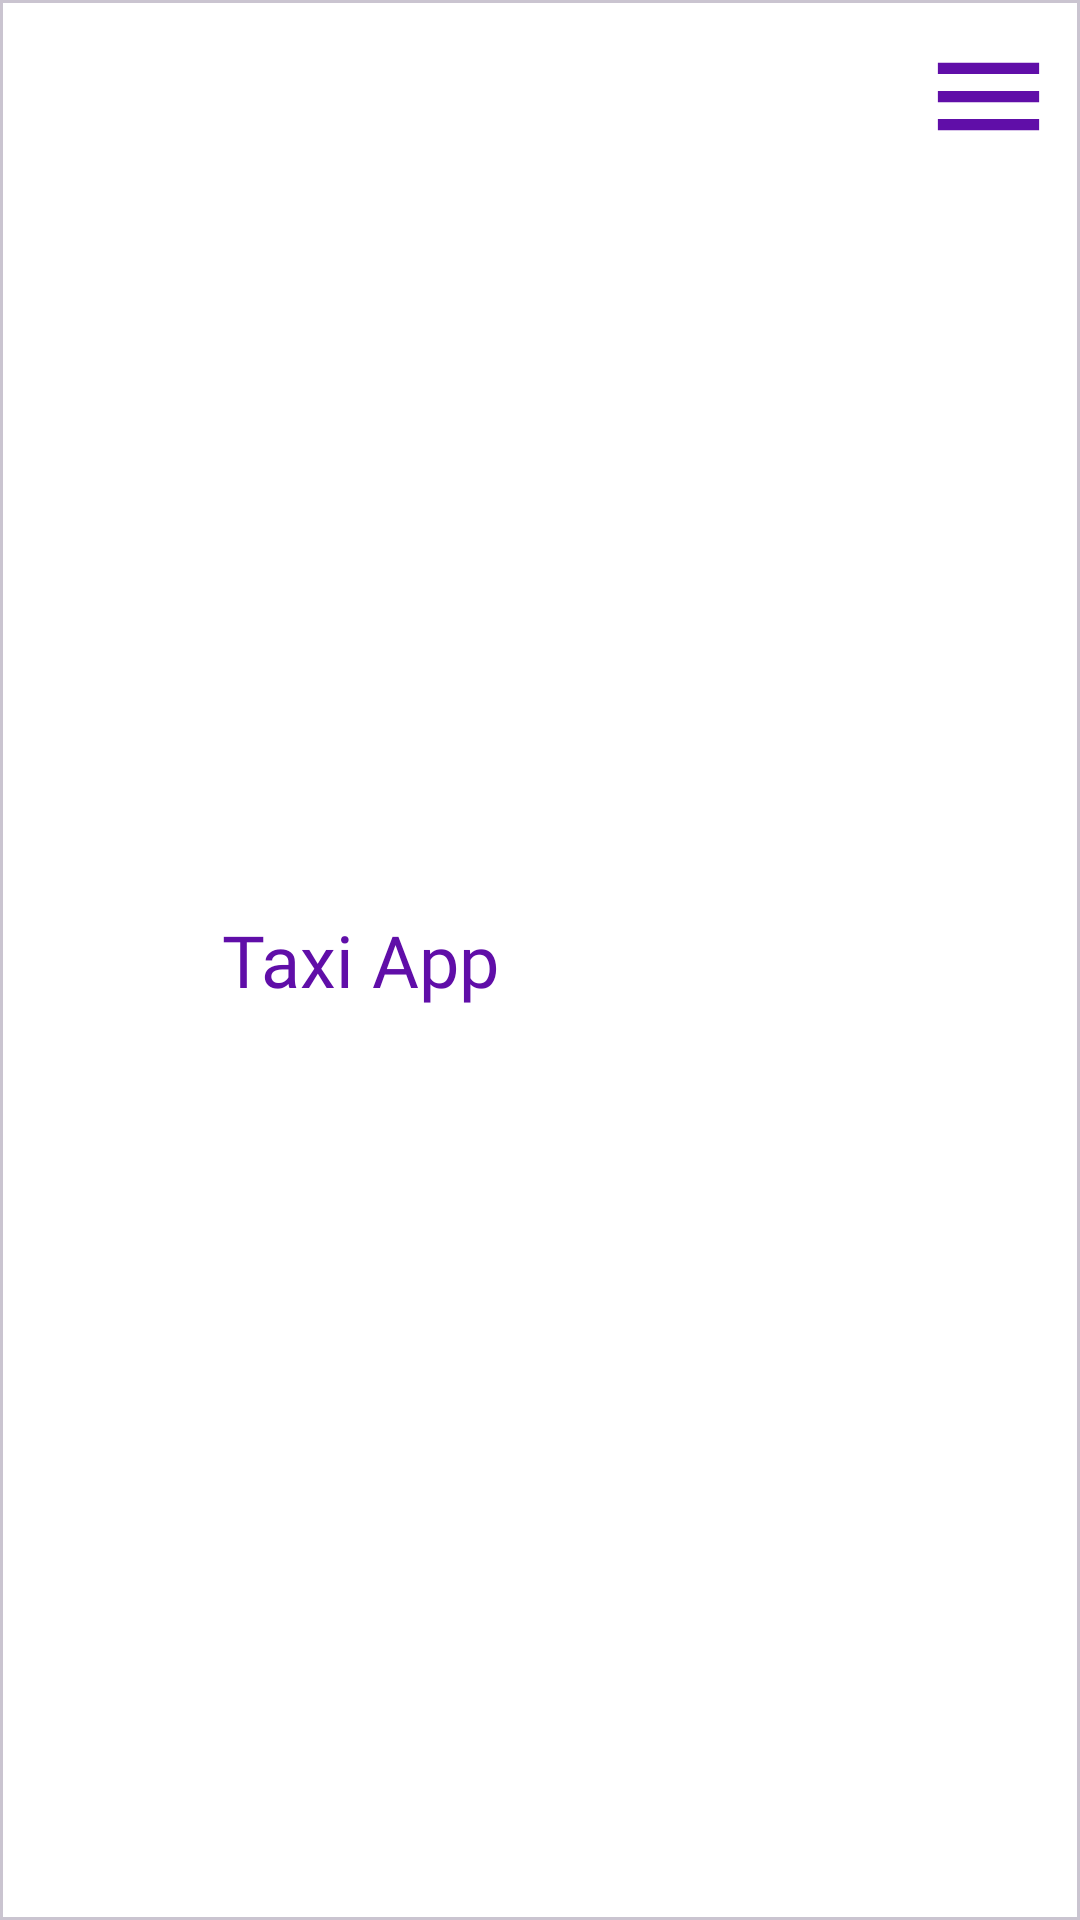

Named icons in this screenshot (1080*1920) and their bounding boxes, (x1, y1, x2, y2):
menu: (937, 62, 1040, 131)
